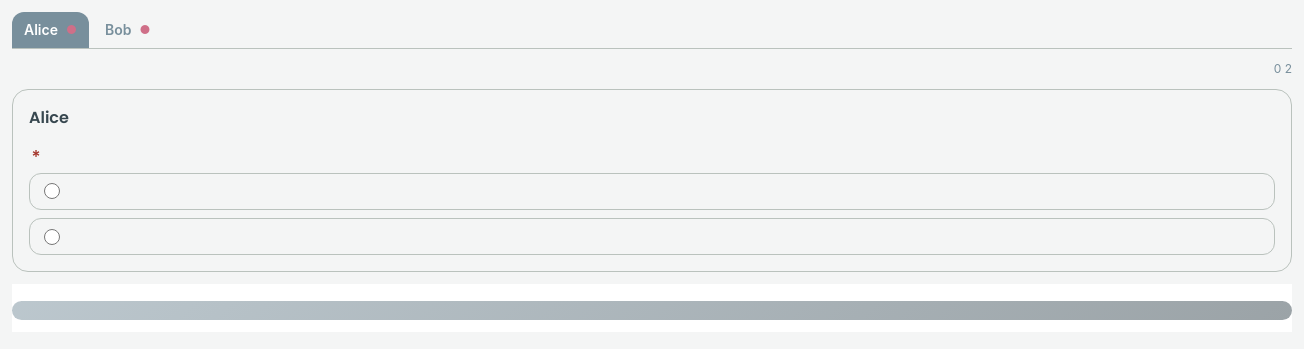
Scenario: GuestGroupRsvpForm › disables the submit until every guest is complete
Click the 2nd radio button at point(52, 237), box top-left (44, 229), bottom-right (60, 245)
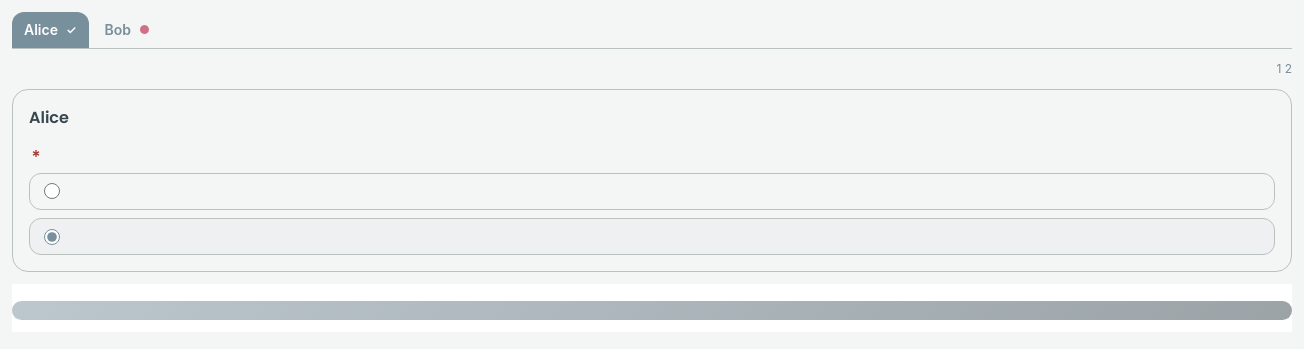
Check: the submit button is disabled, box top-left (12, 301), bottom-right (1292, 320)
Click the button "Bob ●" at point(127, 30), box top-left (92, 12), bottom-right (162, 48)
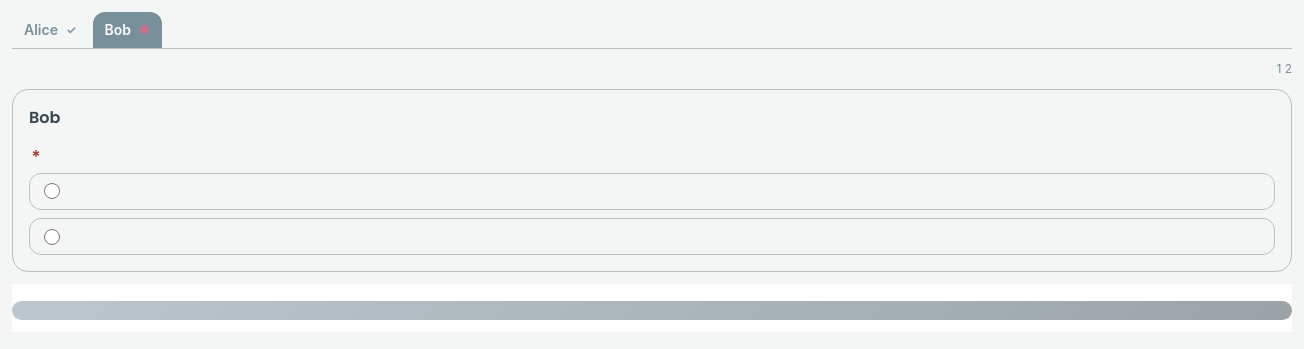
Click the 2nd radio button at point(52, 237), box top-left (44, 229), bottom-right (60, 245)
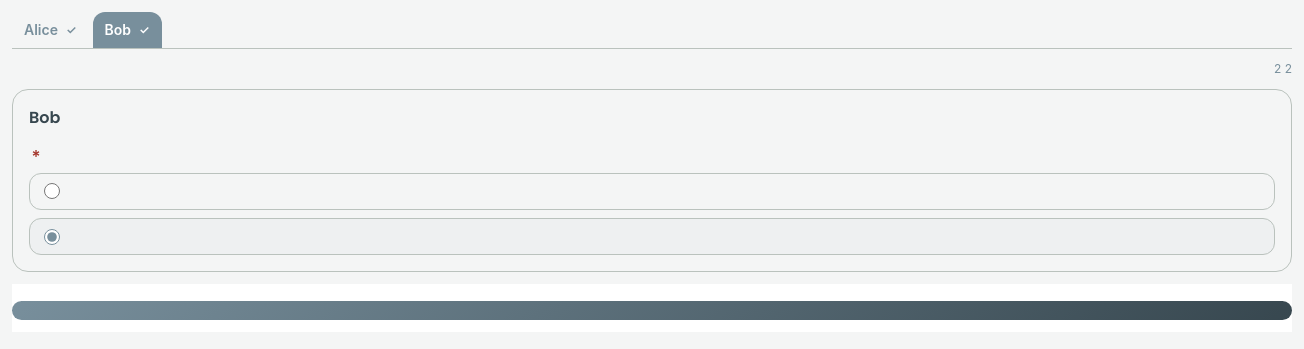
Check: the submit button is enabled, box top-left (12, 301), bottom-right (1292, 320)
